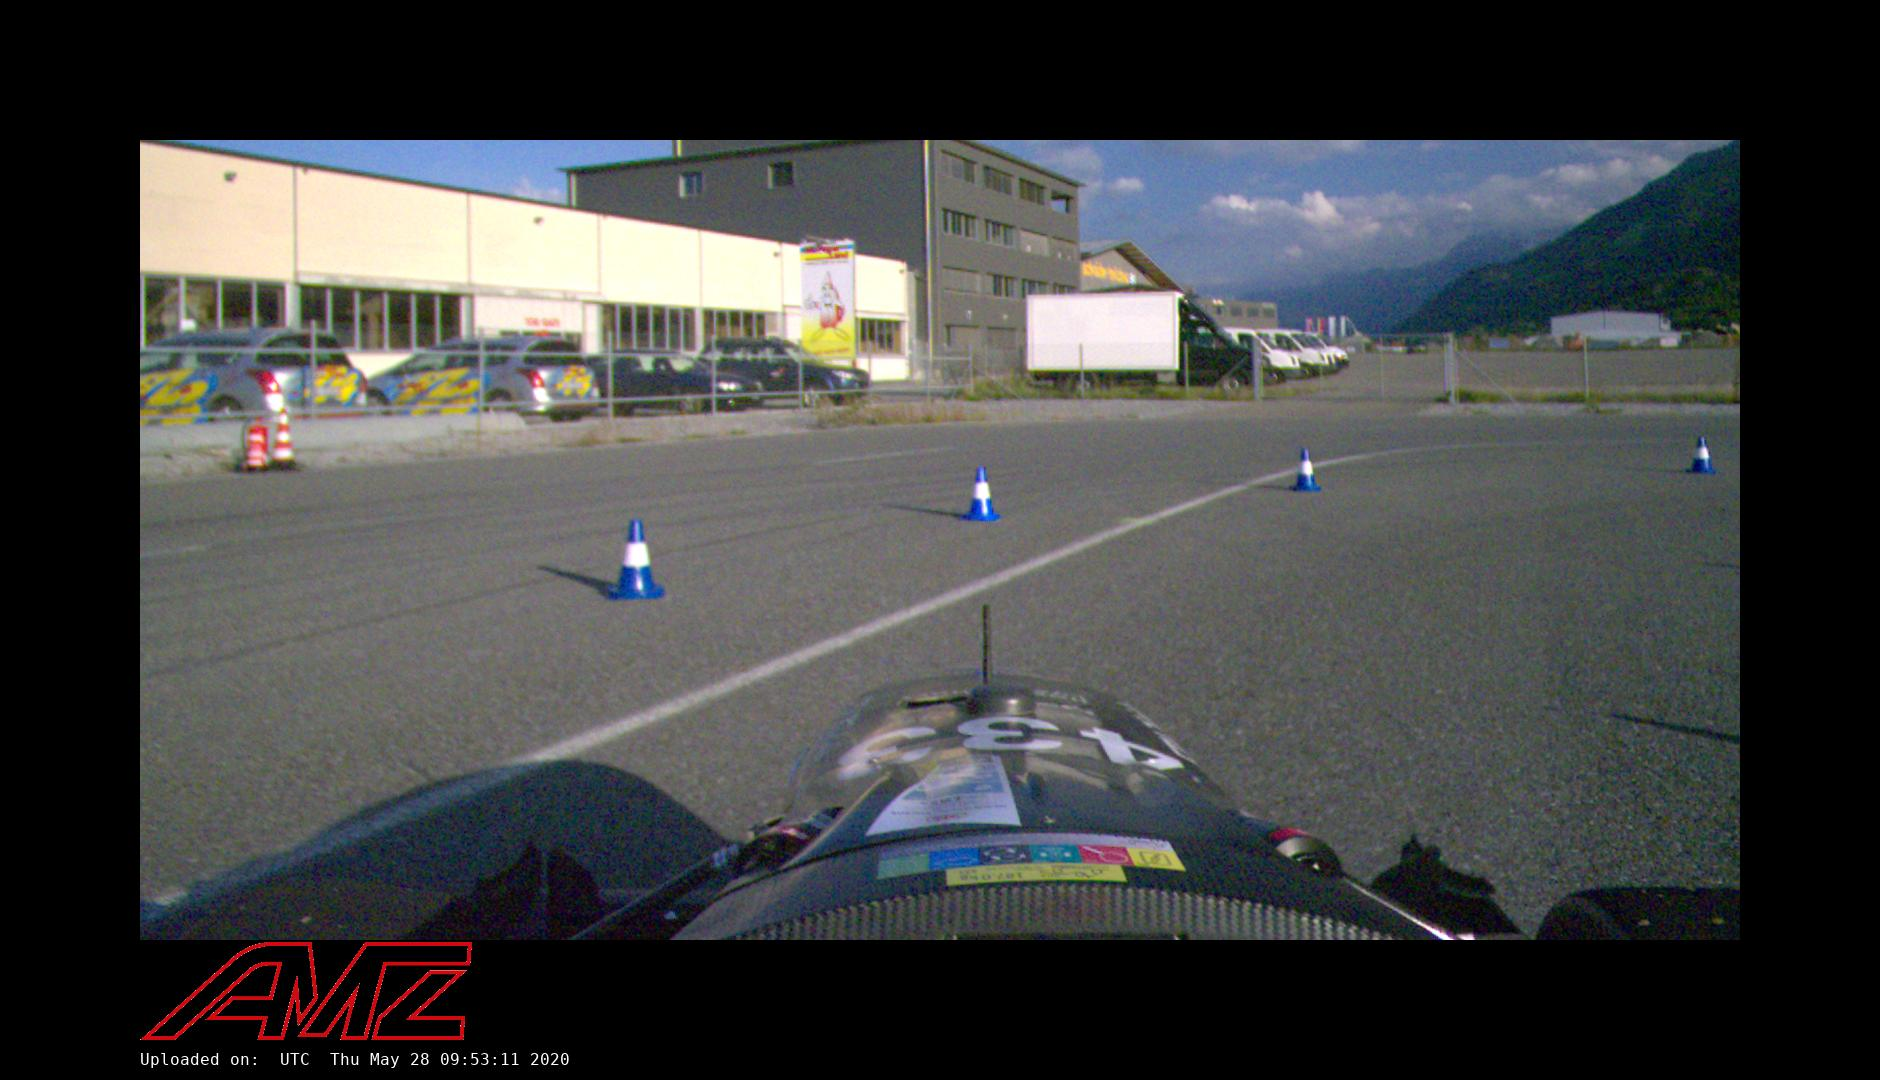blue_cone: (606, 521, 666, 599), (962, 466, 999, 521), (1290, 450, 1320, 491), (1688, 437, 1717, 474)
